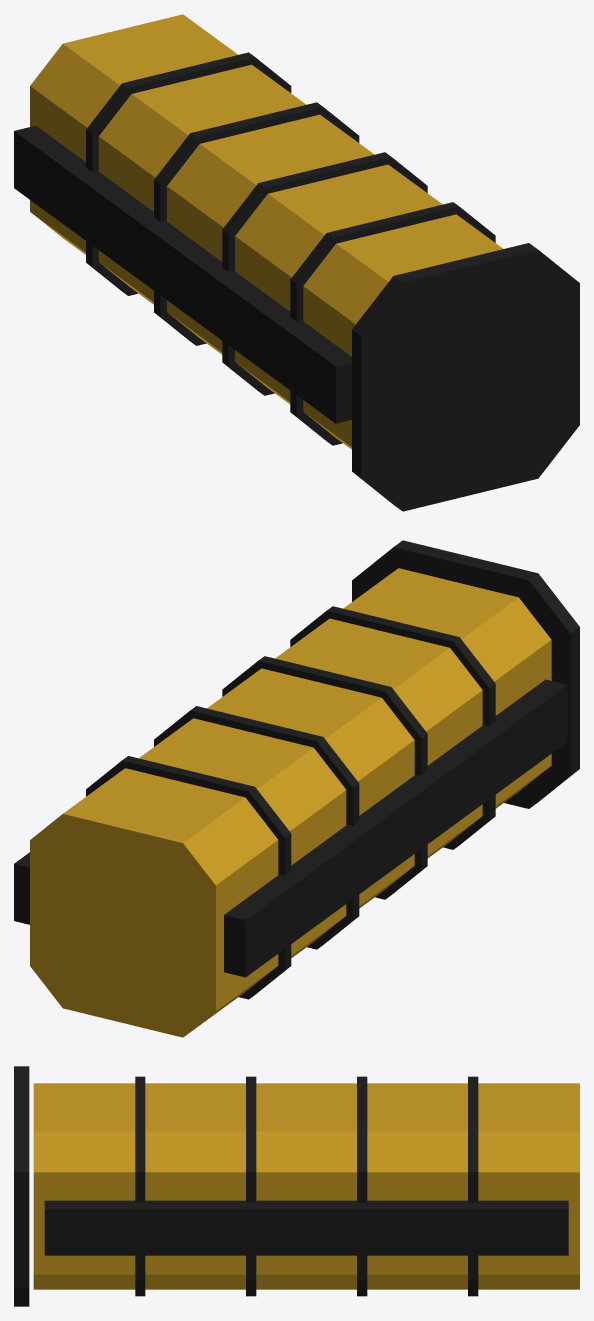
File: md40_coil.obj
The picture shows the model from 3 angles, top to bottom: view 1: azimuth 30°, elevation 25°; view 2: azimuth 150°, elevation 25°; view 3: azimuth 270°, elevation 25°; orthographic projection. The views are drawn at different scales.
Visible parts, largest first — view 1: md40_coil; view 2: md40_coil; view 3: md40_coil.
Part boxes in pixels (x1,y1,x2,y2): md40_coil: (14, 14, 579, 511); md40_coil: (14, 540, 579, 1037); md40_coil: (14, 1066, 579, 1306).
Size of the model in its own units: 2.12 by 2 by 5.51.
